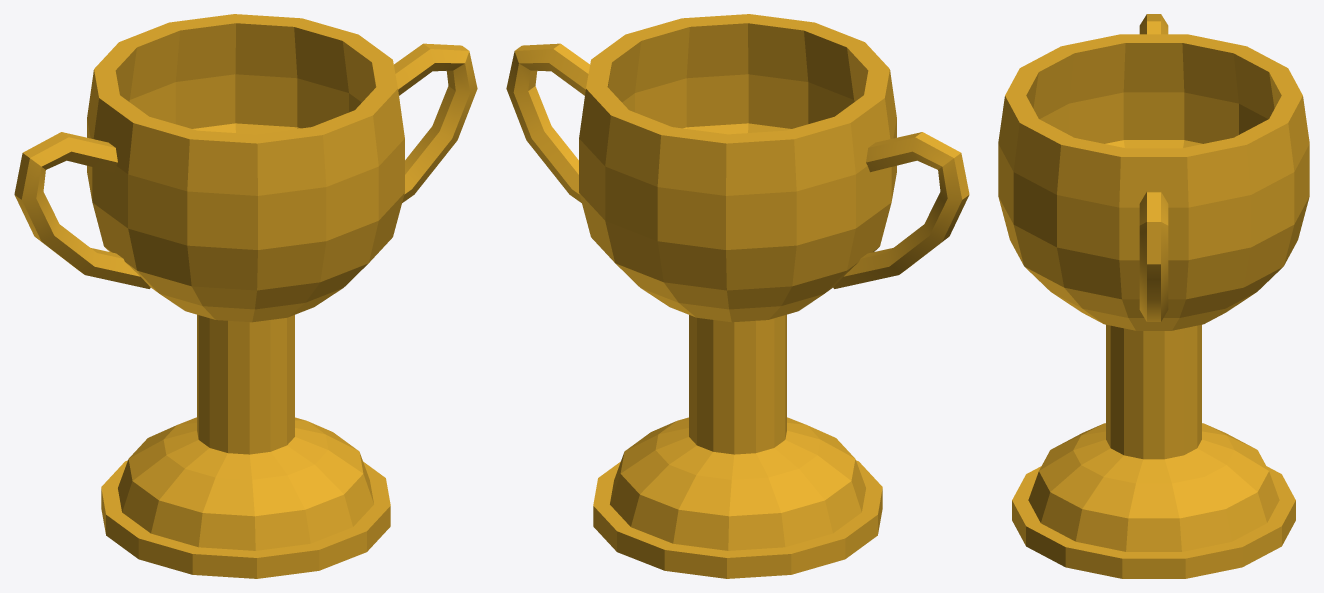
Rendered from trophy.glb.
3 views of the same model, side by side, from view 1: azimuth 30°, elevation 25°; view 2: azimuth 150°, elevation 25°; view 3: azimuth 270°, elevation 25° (orthographic). The views are drawn at different scales.
Visible parts, largest first — view 1: Cylinder, BezierCurve; view 2: Cylinder, BezierCurve; view 3: Cylinder, BezierCurve.
Part boxes in pixels (<box>): Cylinder: <box>87,14,404,578</box>; BezierCurve: <box>14,43,477,288</box>; Cylinder: <box>579,14,896,578</box>; BezierCurve: <box>506,43,969,288</box>; Cylinder: <box>998,34,1309,578</box>; BezierCurve: <box>1139,14,1168,321</box>.
Size of the model in its own units: 0.719 by 0.6609 by 0.4392.
